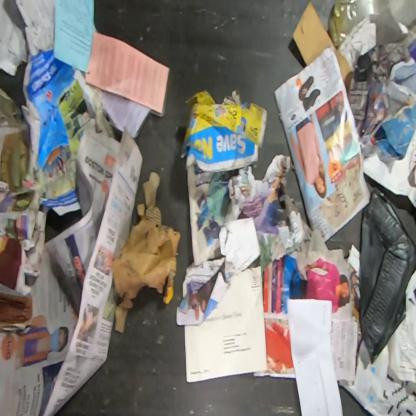cardboard: (113, 172, 180, 333), (291, 2, 354, 90), (375, 105, 415, 161)
rigid_plastic: (357, 191, 416, 365)
soft_plastic: (328, 0, 416, 46)
